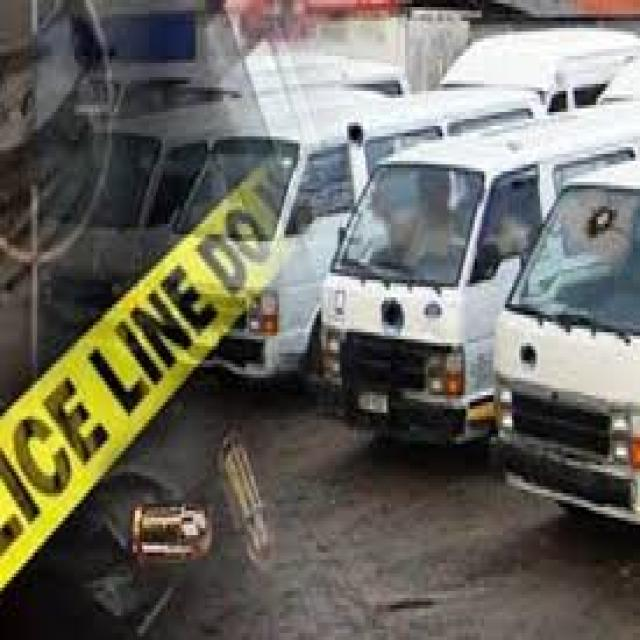MiniBus taxi: (486, 168, 640, 521), (326, 151, 482, 479)
